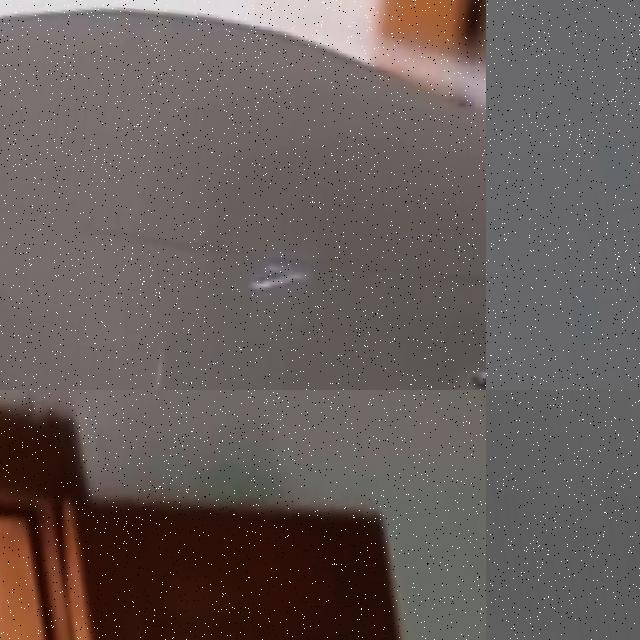drone: (0, 0, 486, 390)
